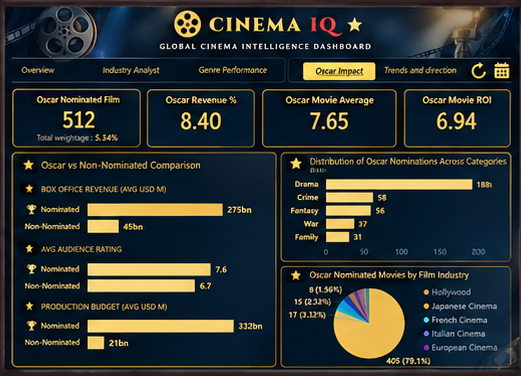

What the dashboard file says about the page in this screenshot:
{"tool":"powerbi","page":{"name":"Oscar Impact","canvas":[1280,720],"ordinal":3},"visuals":[{"type":"cardVisual","fields":{"Data":["measures (3).Oscar Nominated Movies"]},"box":[18,146,268,146],"z":0},{"type":"cardVisual","fields":{"Data":["measures (3).Oscar Revenue %"]},"box":[354,162,226,116],"z":1000},{"type":"cardVisual","fields":{"Data":["measures (3).Oscar Movies Average Rating"]},"box":[672,162,250,114],"z":2000},{"type":"barChart","fields":{"Category":["Movies.Oscar Status"],"Y":["measures (3).Average Rating"]},"box":[152,482,548,80],"z":3000},{"type":"barChart","fields":{"Category":["Movies.Oscar Status"],"Y":["Sum(Movies.Production Budget (USD M)*)"]},"box":[151.7,583.3,548.3,95],"z":4000},{"type":"barChart","fields":{"Category":["Movies.Category"],"Y":["measures (3).Oscar Nominated Movies"]},"box":[710,295,515,173.3],"z":5000},{"type":"pieChart","fields":{"Category":["Movies.Film Industry"],"Y":["measures (3).Oscar Nominated Movies"]},"box":[724,522,514,172],"z":6000},{"type":"cardVisual","fields":{"Data":["measures (3).Oscar Nominated Movies %"]},"box":[20,208,300,100],"z":7000},{"type":"barChart","fields":{"Category":["Movies.Oscar Status"],"Y":["Sum(Movies.Box Office)"]},"box":[151.7,376.7,548.3,91.7],"z":8000},{"type":"cardVisual","fields":{"Data":["measures (3).Oscar Movie ROI"]},"box":[982,162,256,114],"z":9000},{"type":"pageNavigator","box":[0,118.3,1165,43.3],"z":10000},{"type":"actionButton","box":[1153.3,103.3,83.3,70],"z":11000},{"type":"image","box":[1202.5,112.5,65,45],"z":13000}]}

Visuals, with their boxes on the page's 1280x720 design canvas (x1, y1, x2, y2). These are canvas units, not pixel positions in the 521x378 screenshot, which may show the page scaled, cropped or inside an application window:
cardVisual - measures (3).Oscar Nominated Movies: l=18, t=146, r=286, b=292
cardVisual - measures (3).Oscar Revenue %: l=354, t=162, r=580, b=278
cardVisual - measures (3).Oscar Movies Average Rating: l=672, t=162, r=922, b=276
barChart - Movies.Oscar Status x measures (3).Average Rating: l=152, t=482, r=700, b=562
barChart - Movies.Oscar Status x Sum(Movies.Production Budget (USD M)*): l=152, t=583, r=700, b=678
barChart - Movies.Category x measures (3).Oscar Nominated Movies: l=710, t=295, r=1225, b=468
pieChart - Movies.Film Industry x measures (3).Oscar Nominated Movies: l=724, t=522, r=1238, b=694
cardVisual - measures (3).Oscar Nominated Movies %: l=20, t=208, r=320, b=308
barChart - Movies.Oscar Status x Sum(Movies.Box Office): l=152, t=377, r=700, b=468
cardVisual - measures (3).Oscar Movie ROI: l=982, t=162, r=1238, b=276
pageNavigator: l=0, t=118, r=1165, b=162
actionButton: l=1153, t=103, r=1237, b=173
image: l=1202, t=112, r=1268, b=158
